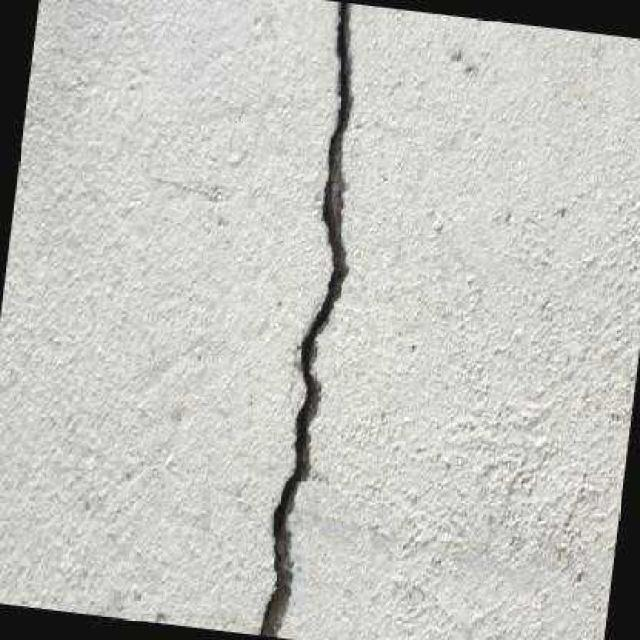D00: (254, 0, 351, 637)
